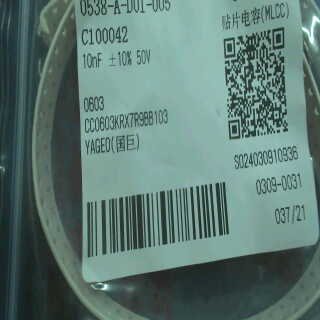10nF: (80, 51, 108, 69)
